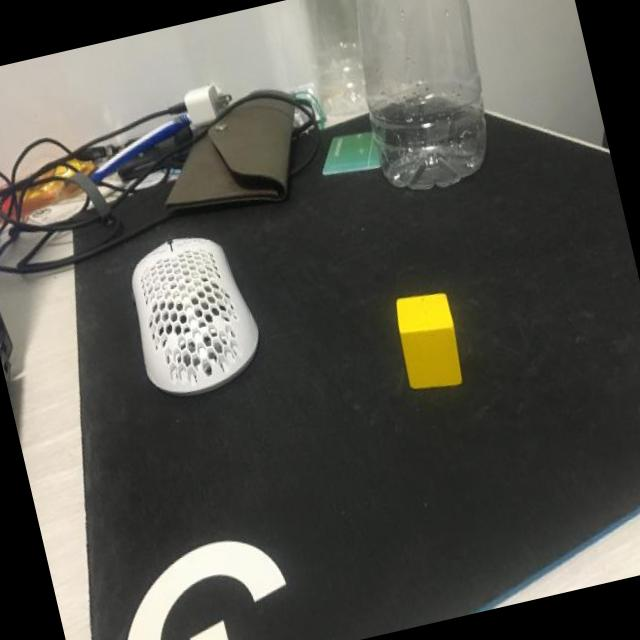yellow: (390, 288, 468, 396)
